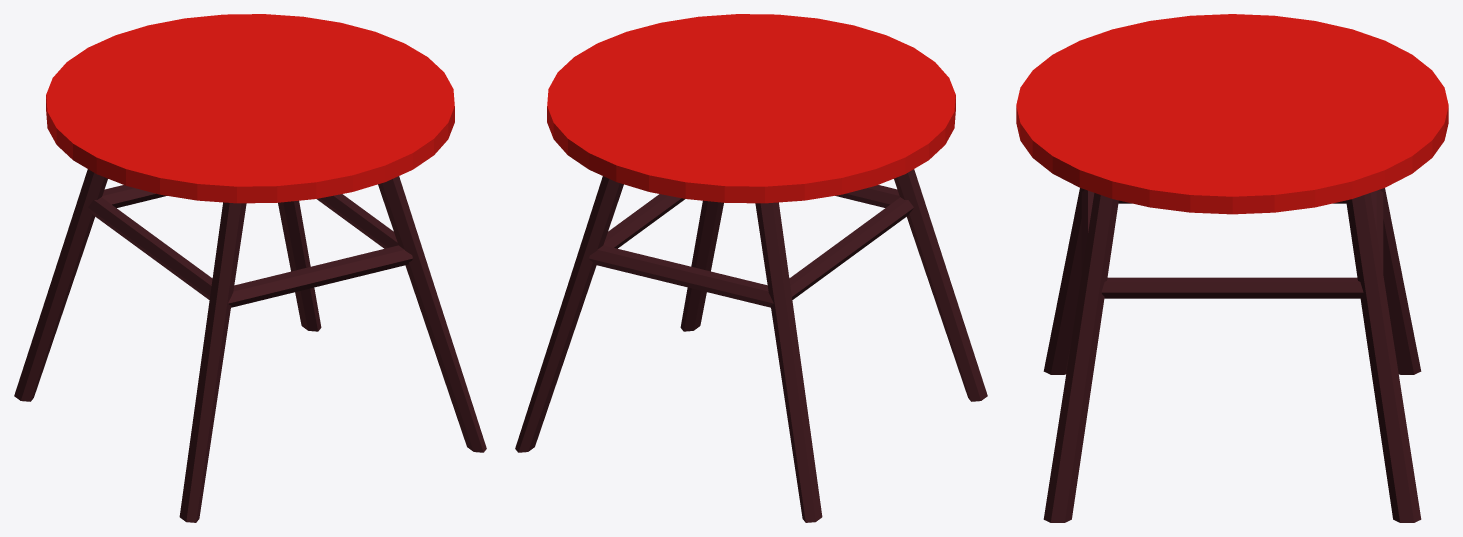
Rendered from Table.fbx.
3 views of the same model, side by side, from view 1: azimuth 30°, elevation 25°; view 2: azimuth 150°, elevation 25°; view 3: azimuth 270°, elevation 25° (orthographic). The views are drawn at different scales.
Parts seen in each view (by area): view 1: Cylinder.001; view 2: Cylinder.001; view 3: Cylinder.001.
Part boxes in pixels (x1=…): Cylinder.001: x1=14, y1=14, x2=486, y2=522; Cylinder.001: x1=515, y1=14, x2=987, y2=522; Cylinder.001: x1=1016, y1=14, x2=1448, y2=522.
Size of the model in its own units: 127 by 110 by 127.
